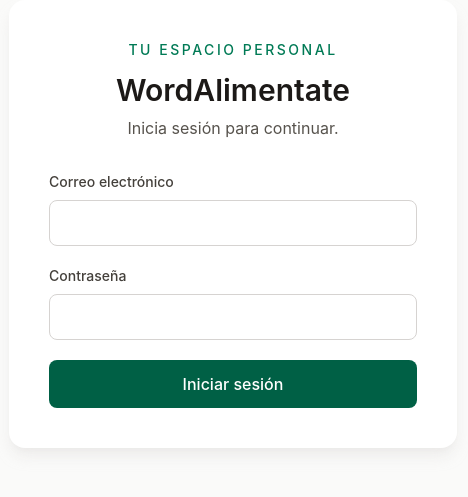
it: login › shows an error when credentials are invalid
Type "usuario@example.com" into the field labelled "Correo electrónico" at (233, 223), box [49, 200, 417, 246]
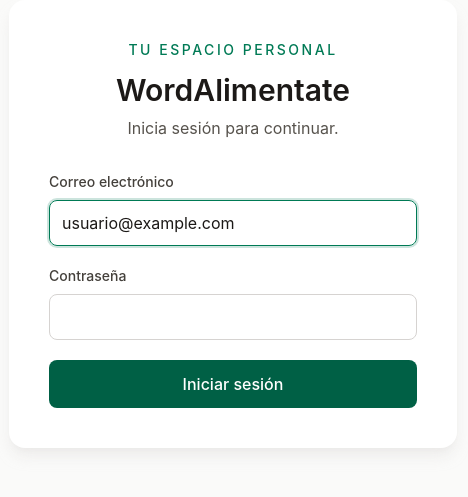
Type "incorrecta" into the password field labelled "Contraseña" at (233, 317), box [49, 294, 417, 340]
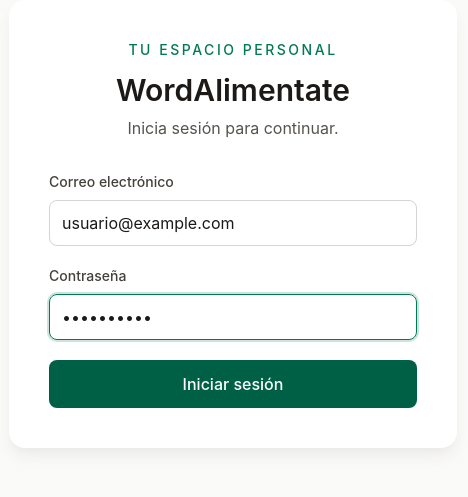
Click the button "Iniciar sesión" at (233, 384), box [49, 360, 417, 408]
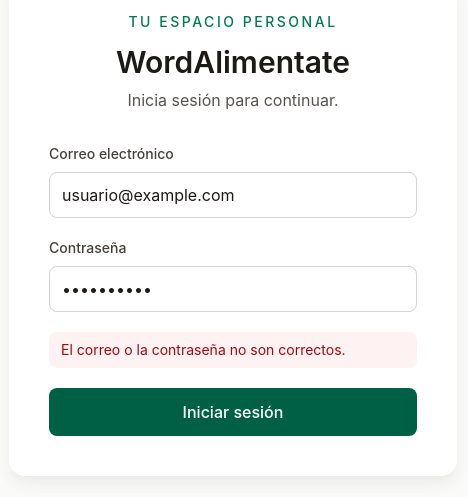
expect the message reads "El correo o la contraseña no son correctos.": met, box [61, 341, 346, 358]
